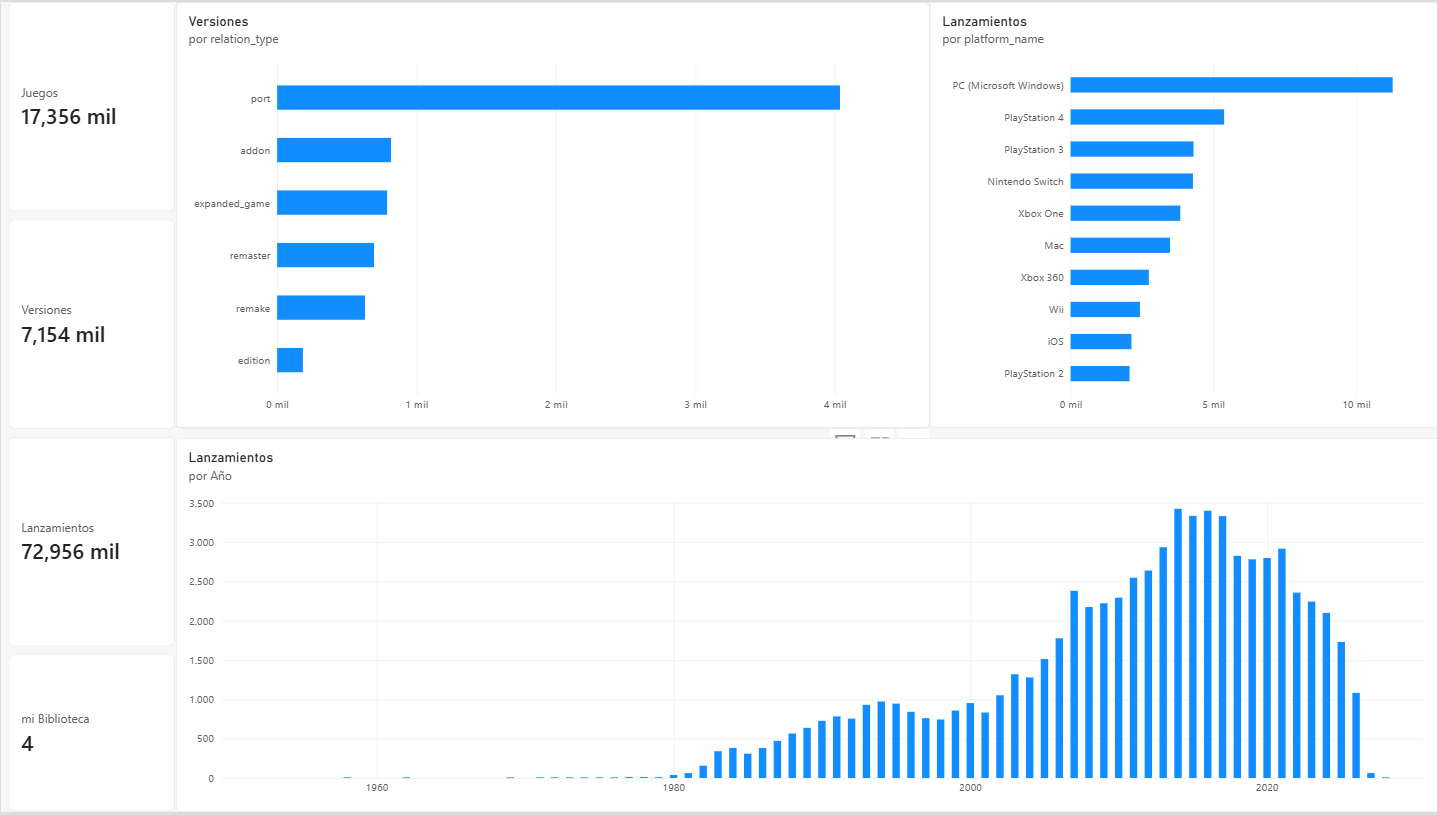

This screenshot's page, from the dashboard's own definition file:
{"tool":"powerbi","page":{"name":"Resumen","canvas":[1920,1080],"ordinal":0},"visuals":[{"type":"cardVisual","fields":{"Data":["CountNonNull(public game_catalog.game_id)"]},"box":[10.3,0,222.3,279.9],"z":0},{"type":"cardVisual","fields":{"Data":["CountNonNull(public game_versions.version_id)"]},"box":[10.3,290.2,222.3,279.9],"z":1},{"type":"cardVisual","fields":{"Data":["CountNonNull(public game_releases.game_id)"]},"box":[10.3,580.4,222.3,279.9],"z":2},{"type":"cardVisual","fields":{"Data":["CountNonNull(public my_library.game_name)"]},"box":[10.3,870.7,222.3,209.9],"z":3},{"type":"clusteredBarChart","fields":{"Category":["public game_versions.relation_type"],"Y":["CountNonNull(public game_versions.version_id)"]},"box":[233.6,0,1004.7,568.5],"z":4},{"type":"clusteredColumnChart","fields":{"Category":["public game_releases.release_date.Variation.Jerarquía de fechas.Año"],"Y":["CountNonNull(public game_releases.platform_id)"]},"box":[233.6,580.9,1686.8,498.2],"z":5},{"type":"clusteredBarChart","fields":{"Category":["public game_releases.platform_name"],"Y":["CountNonNull(public game_releases.game_id)"]},"box":[1239,0,681,568],"z":6}]}

Visuals, with their boxes in screenshot pixels (x1, y1, x2, y2), scaled from the page's 1920x1080 canvas onto the 1437x815 screenshot:
cardVisual - CountNonNull(public game_catalog.game_id): <box>8,0,174,211</box>
cardVisual - CountNonNull(public game_versions.version_id): <box>8,219,174,430</box>
cardVisual - CountNonNull(public game_releases.game_id): <box>8,438,174,649</box>
cardVisual - CountNonNull(public my_library.game_name): <box>8,657,174,814</box>
clusteredBarChart - public game_versions.relation_type x CountNonNull(public game_versions.version_id): <box>175,0,927,429</box>
clusteredColumnChart - public game_releases.release_date.Variation.Jerarquía de fechas.Año x CountNonNull(public game_releases.platform_id): <box>175,438,1436,814</box>
clusteredBarChart - public game_releases.platform_name x CountNonNull(public game_releases.game_id): <box>927,0,1436,429</box>
